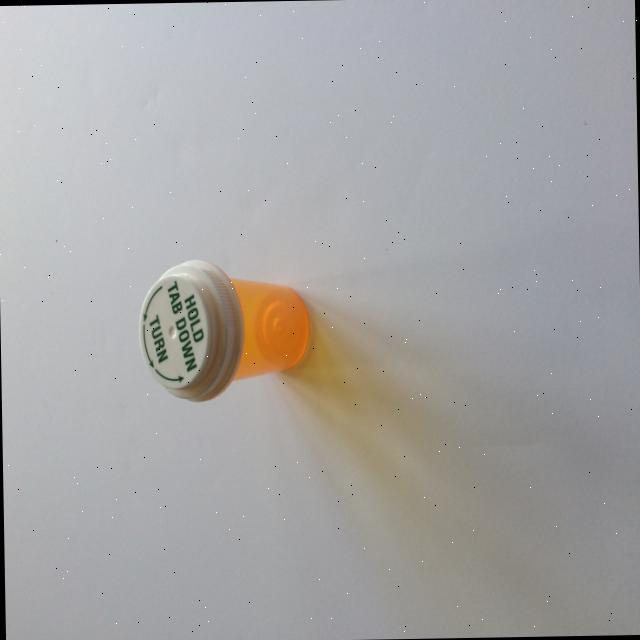plastic: (136, 255, 310, 403)
